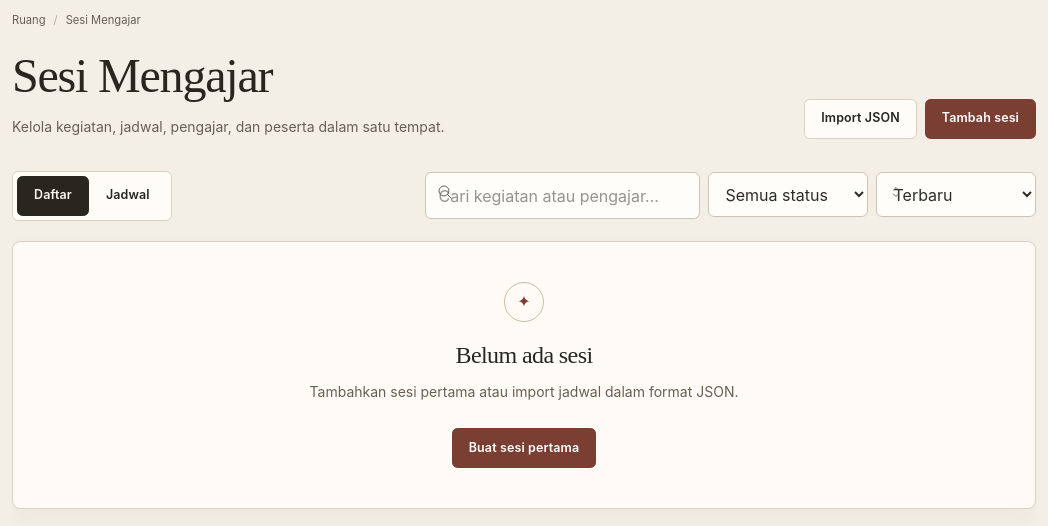
Scenario: SessionsPage › shows one main view at a time and opens the schedule on demand
This screenshot has width=1048, height=526.
Expected: the heading "Belum ada sesi" is shown, top-left (456, 342), bottom-right (592, 368)
Click the button "Jadwal" at [128, 196], box top-left (89, 176), bottom-right (167, 216)
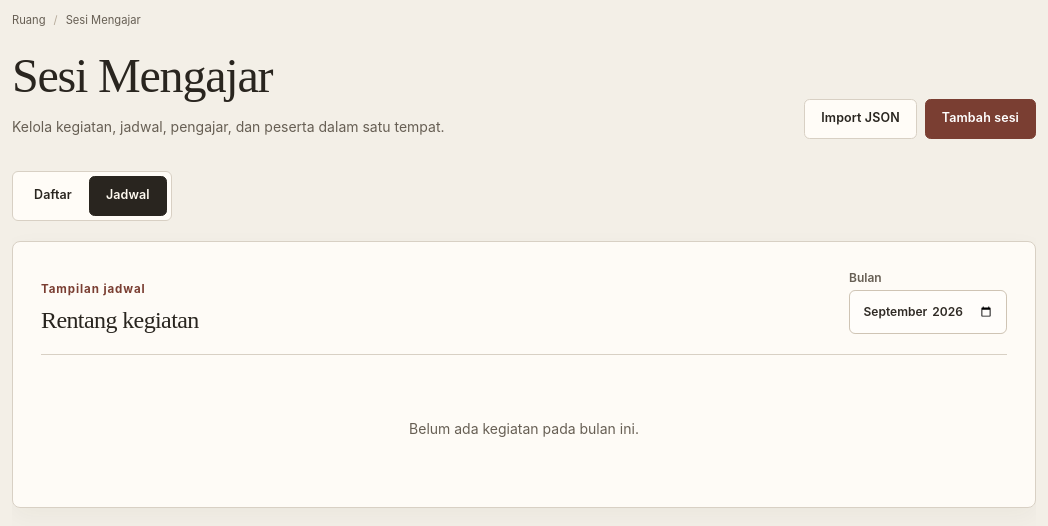
Now the field named "Bulan jadwal" is shown, box top-left (849, 290), bottom-right (1007, 334)
Now the heading "Belum ada sesi" is gone
